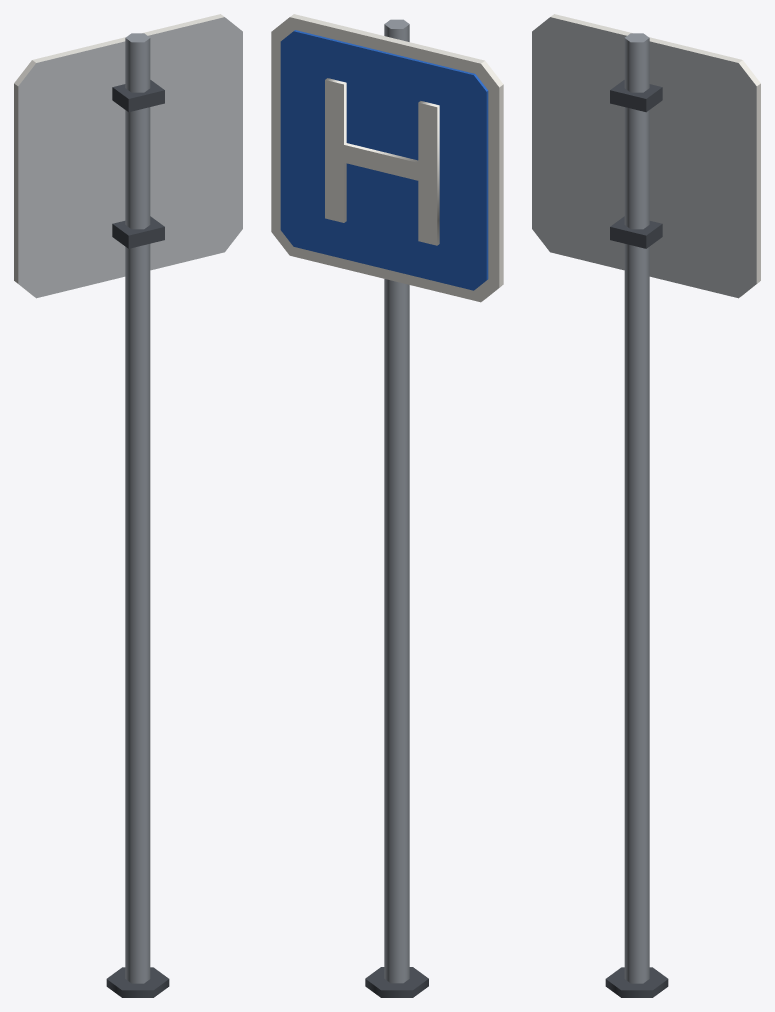
The model's file is sign_hospital.glb.
3 renders of one model, left to right at view 1: azimuth 30°, elevation 25°; view 2: azimuth 150°, elevation 25°; view 3: azimuth 330°, elevation 25°, orthographic.
Parts seen in each view (by area): view 1: sign_hospital__mesh; view 2: sign_hospital__mesh; view 3: sign_hospital__mesh.
Boxes of the visible parts, box(x1,y1,x2,y2) form: sign_hospital__mesh: box(14, 14, 242, 997); sign_hospital__mesh: box(271, 14, 503, 997); sign_hospital__mesh: box(532, 14, 760, 997).
Bounding box in the file's own units: 0.62 × 2.5 × 0.15.
Materials: 1 (1 with a texture image).
